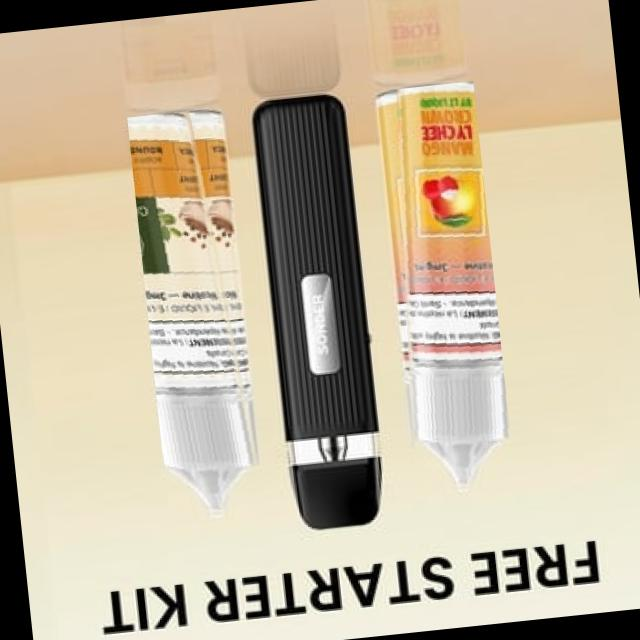Hazard: (372, 80, 514, 497), (126, 106, 266, 523)
